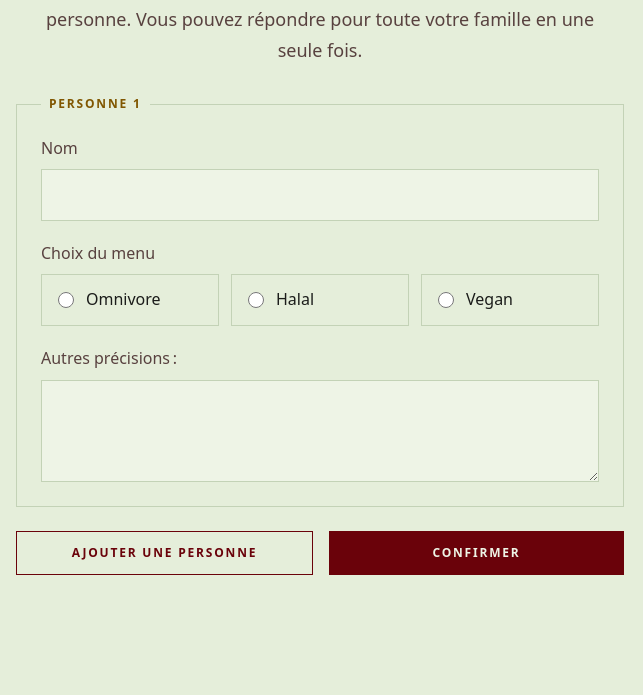
RsvpPage › sends nothing until every person has a name and a menu
The width and height of the screenshot is (643, 695).
(page scrolled)
Click the button "Ajouter une personne": (164, 553) [16, 531, 313, 575]
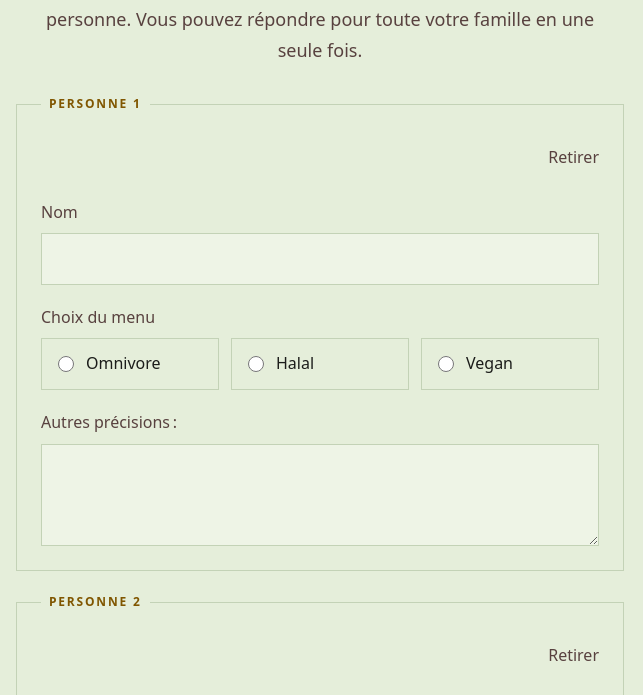
In the field labelled "Nom": (320, 259) [41, 233, 599, 285], type "Louis"
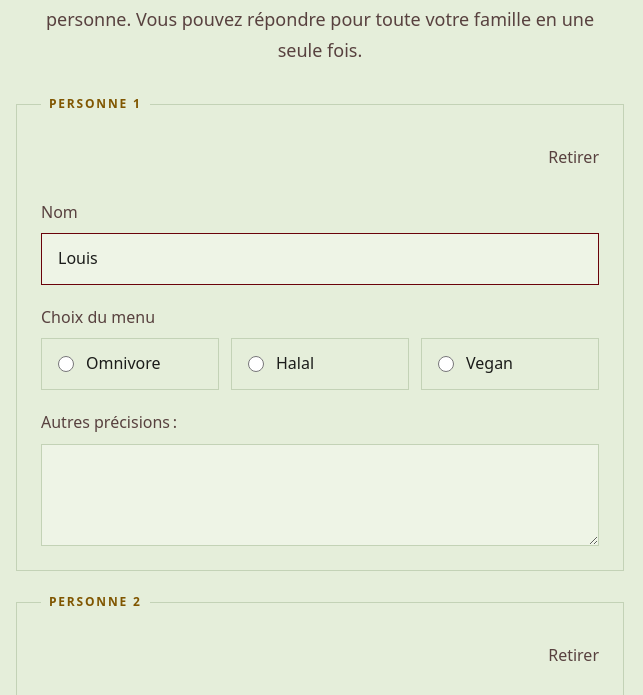
Click the radio button labelled "Halal": (256, 364) [248, 356, 264, 372]
(page scrolled)
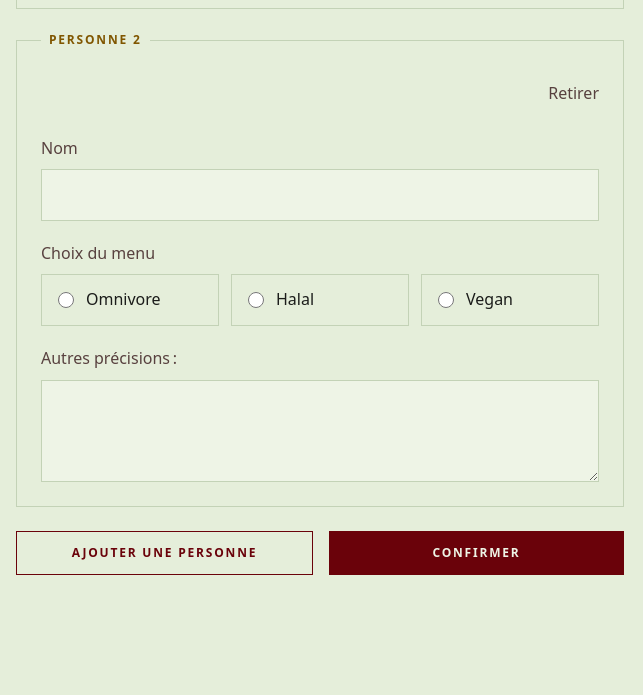
Click the button "Confirmer": (476, 554) [329, 532, 624, 576]
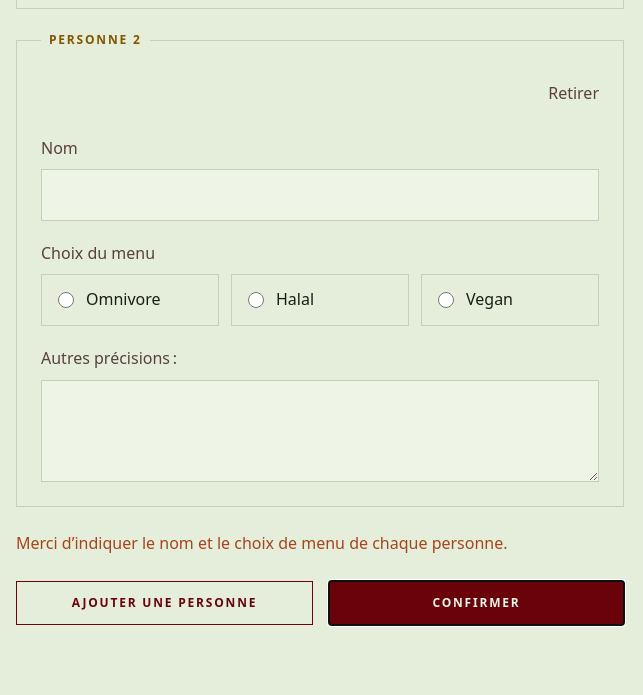
Now the message reads "Merci d’indiquer le nom et le choix de menu de chaque personne.", box [16, 532, 508, 554]
